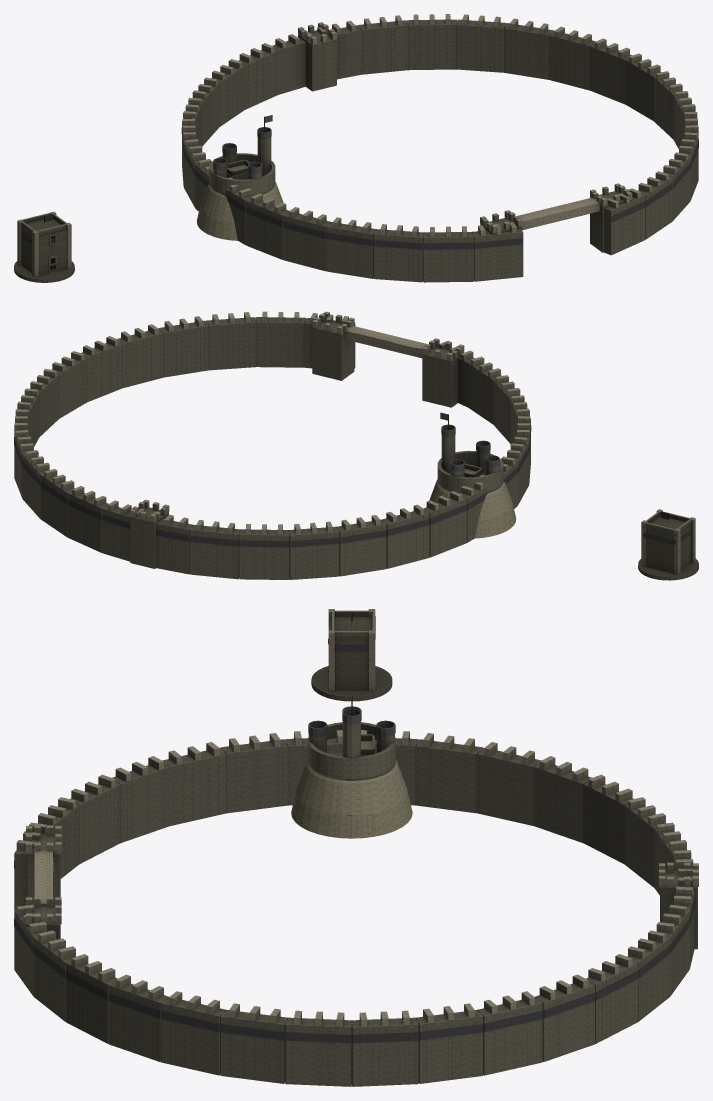
Rendered from shared-classical-israelite.glb.
3 views of the same model, one above another, from view 1: azimuth 30°, elevation 25°; view 2: azimuth 150°, elevation 25°; view 3: azimuth 270°, elevation 25° (orthographic). The views are drawn at different scales.
Parts seen in each view (by area): view 1: LOD0.002, LOD0.001, LOD0; view 2: LOD0.002, LOD0.001, LOD0; view 3: LOD0.002, LOD0.001, LOD0.
Boxes of the visible parts, box(x1,y1,x2,y2) form: LOD0.002: box(181, 14, 698, 282); LOD0.001: box(196, 115, 283, 240); LOD0: box(14, 211, 74, 282); LOD0.002: box(14, 311, 531, 579); LOD0.001: box(429, 412, 516, 538); LOD0: box(638, 509, 698, 580); LOD0.002: box(14, 730, 698, 1086); LOD0.001: box(291, 694, 412, 838); LOD0: box(311, 609, 392, 701).
Size of what is drawn, in the model's own units: 9.8 by 1.44 by 6.76.
2 materials, 2 textured.
